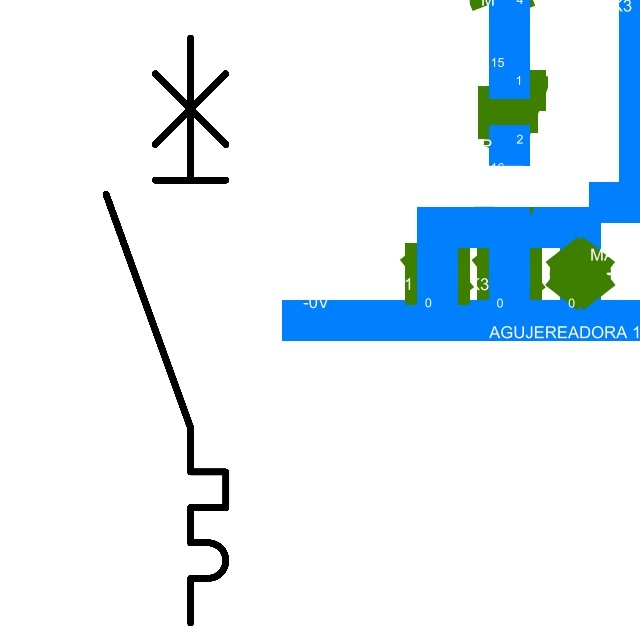interruptor_termomagnetico: (91, 23, 241, 638)
